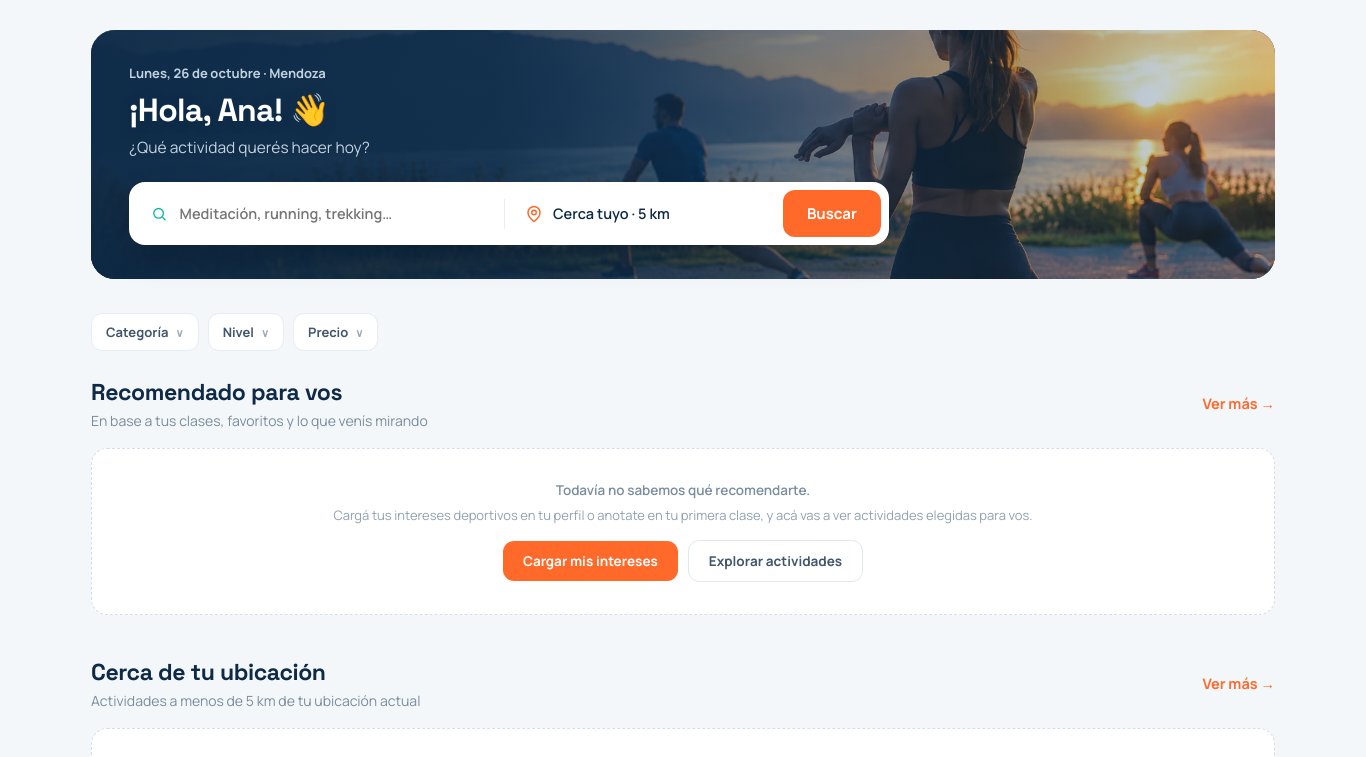
Scenario: filtros rápidos del Home › Precio ofrece montos redondos
Click the button "Precio ∨" at (336, 332), box [293,313,378,351]
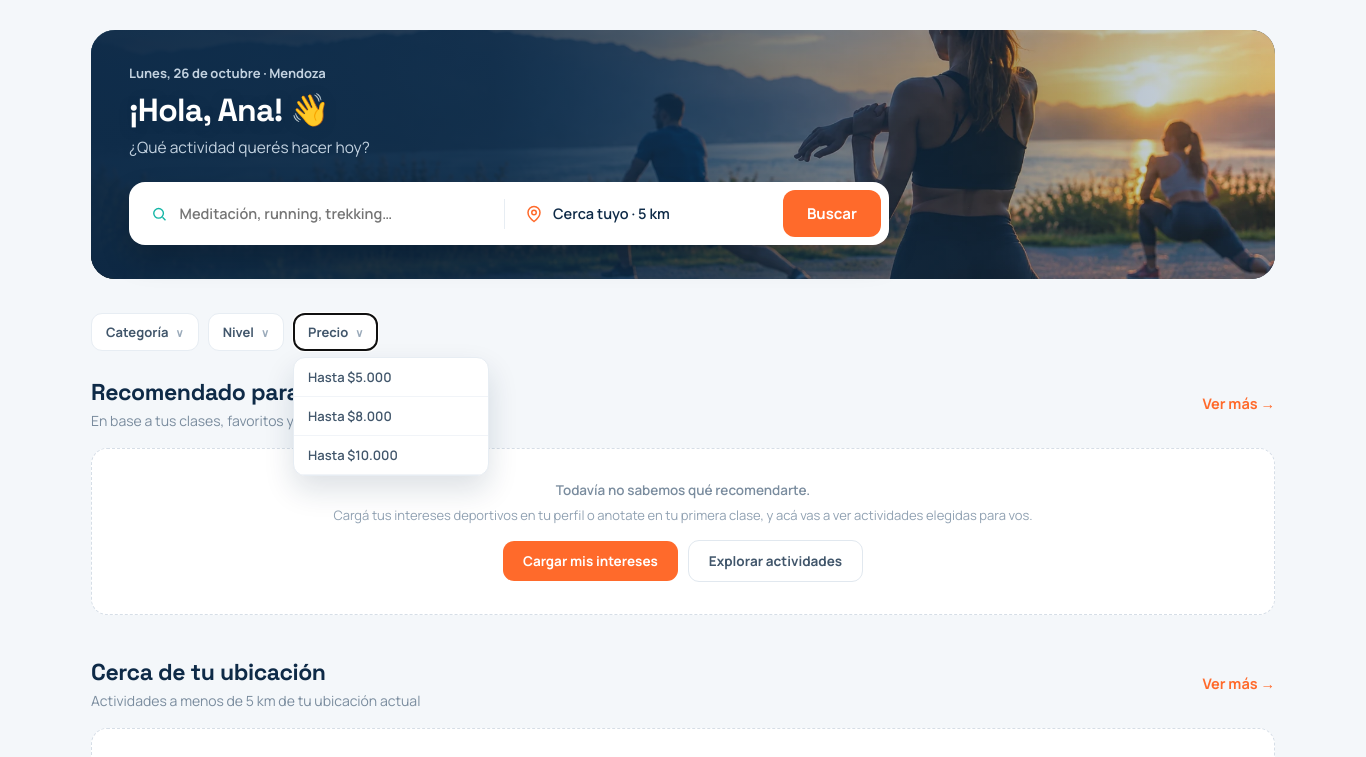
Check: the button "Hasta $5.000" is shown, box [294,358,488,397]
Check: the button "Hasta $10.000" is shown, box [294,436,488,475]
